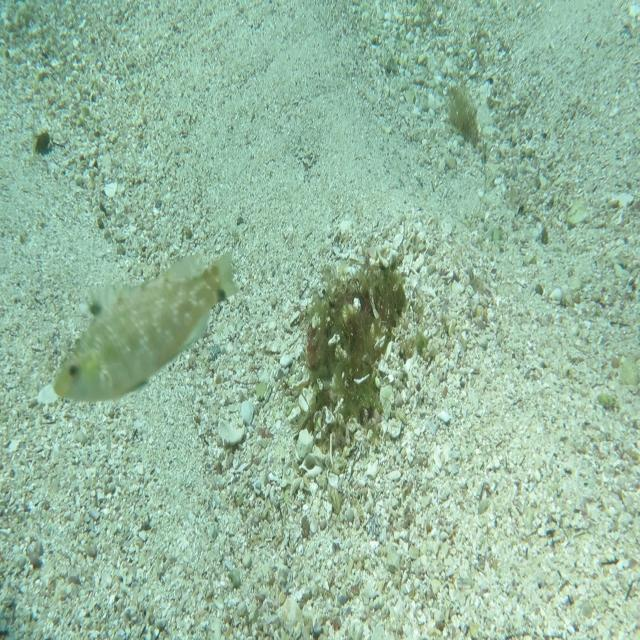CHASE_FLEE: (52, 244, 243, 407)
core_nest: (343, 270, 398, 330)
nest: (274, 241, 419, 478)
